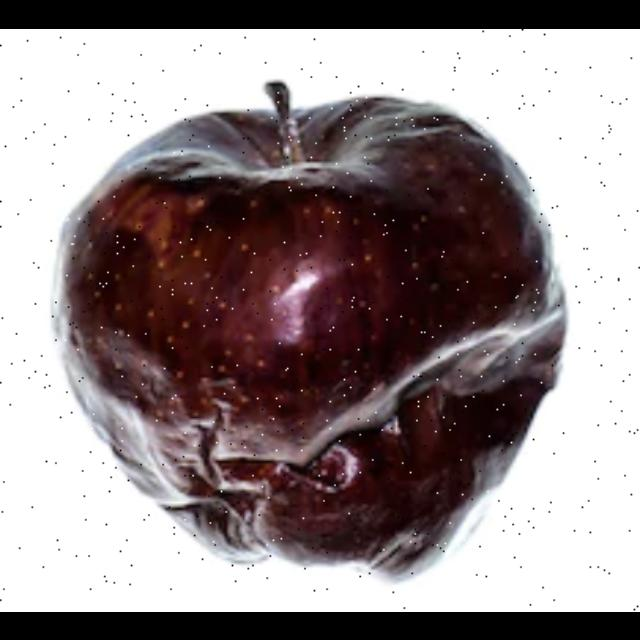Apel Tidak Segar: (48, 84, 574, 588)
